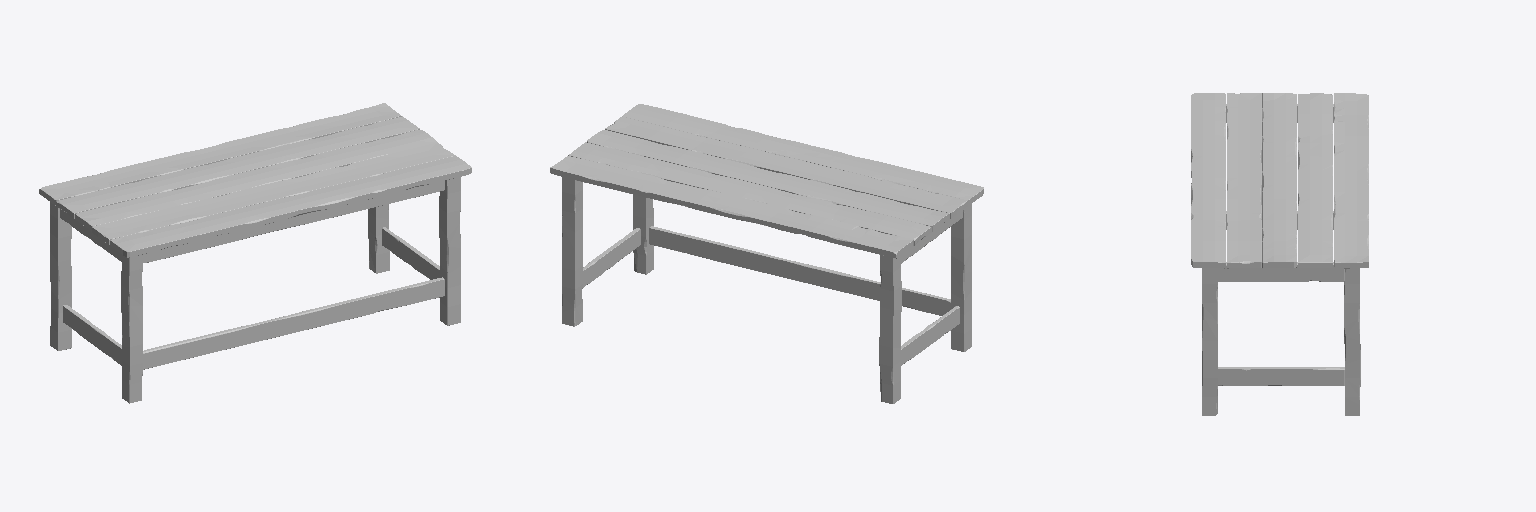
The model's file is mesa.obj.
The picture shows the model from 3 angles: view 1: azimuth 30°, elevation 25°; view 2: azimuth 150°, elevation 25°; view 3: azimuth 270°, elevation 25°; orthographic projection.
Visible parts, largest first — view 1: Wooden_Table_Wooden_Table_0; view 2: Wooden_Table_Wooden_Table_0; view 3: Wooden_Table_Wooden_Table_0.
Part boxes in pixels (x1,y1,x2,y2): Wooden_Table_Wooden_Table_0: (39,103,471,403); Wooden_Table_Wooden_Table_0: (550,104,983,403); Wooden_Table_Wooden_Table_0: (1191,93,1368,415).
Size of the model in its own units: 2.01 by 0.8712 by 0.8875.